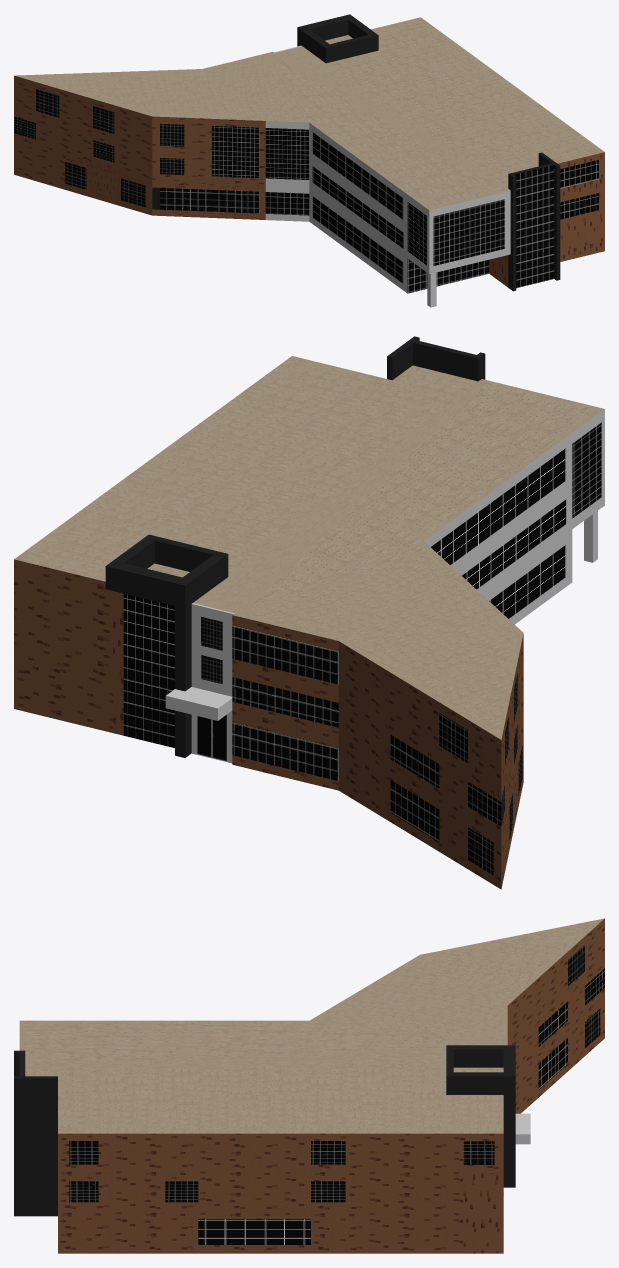
File: PHbuildingbake_origin.fbx
The picture shows the model from 3 angles, top to bottom: view 1: azimuth 30°, elevation 25°; view 2: azimuth 150°, elevation 25°; view 3: azimuth 270°, elevation 25°; orthographic projection. The views are drawn at different scales.
Parts seen in each view (by area): view 1: PHB; view 2: PHB; view 3: PHB.
Part boxes in pixels (left/top/right/bottom): PHB: left=14, top=14, right=604, bottom=307; PHB: left=14, top=336, right=604, bottom=889; PHB: left=14, top=918, right=604, bottom=1253.
Bounding box in the file's own units: 963 × 288 × 1116.
Materials: 9 (7 with a texture image).
